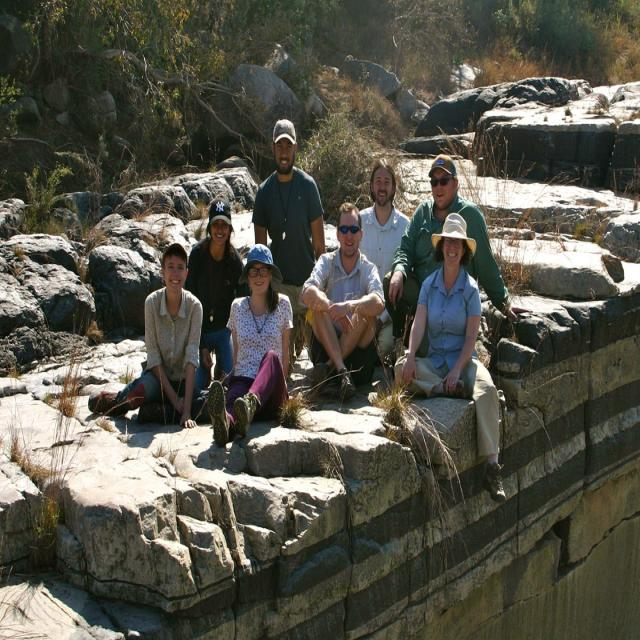body: (392, 209, 506, 506), (382, 152, 534, 358), (87, 237, 205, 434), (298, 199, 388, 402), (206, 241, 292, 448), (251, 114, 327, 346), (174, 194, 248, 398), (358, 157, 412, 366)
